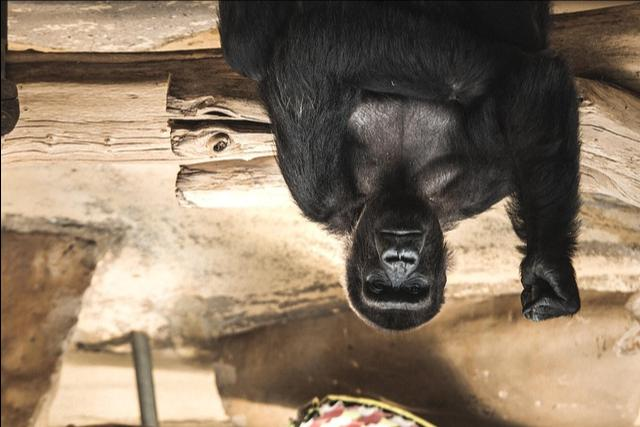gorille_Autres: (211, 4, 608, 353)
